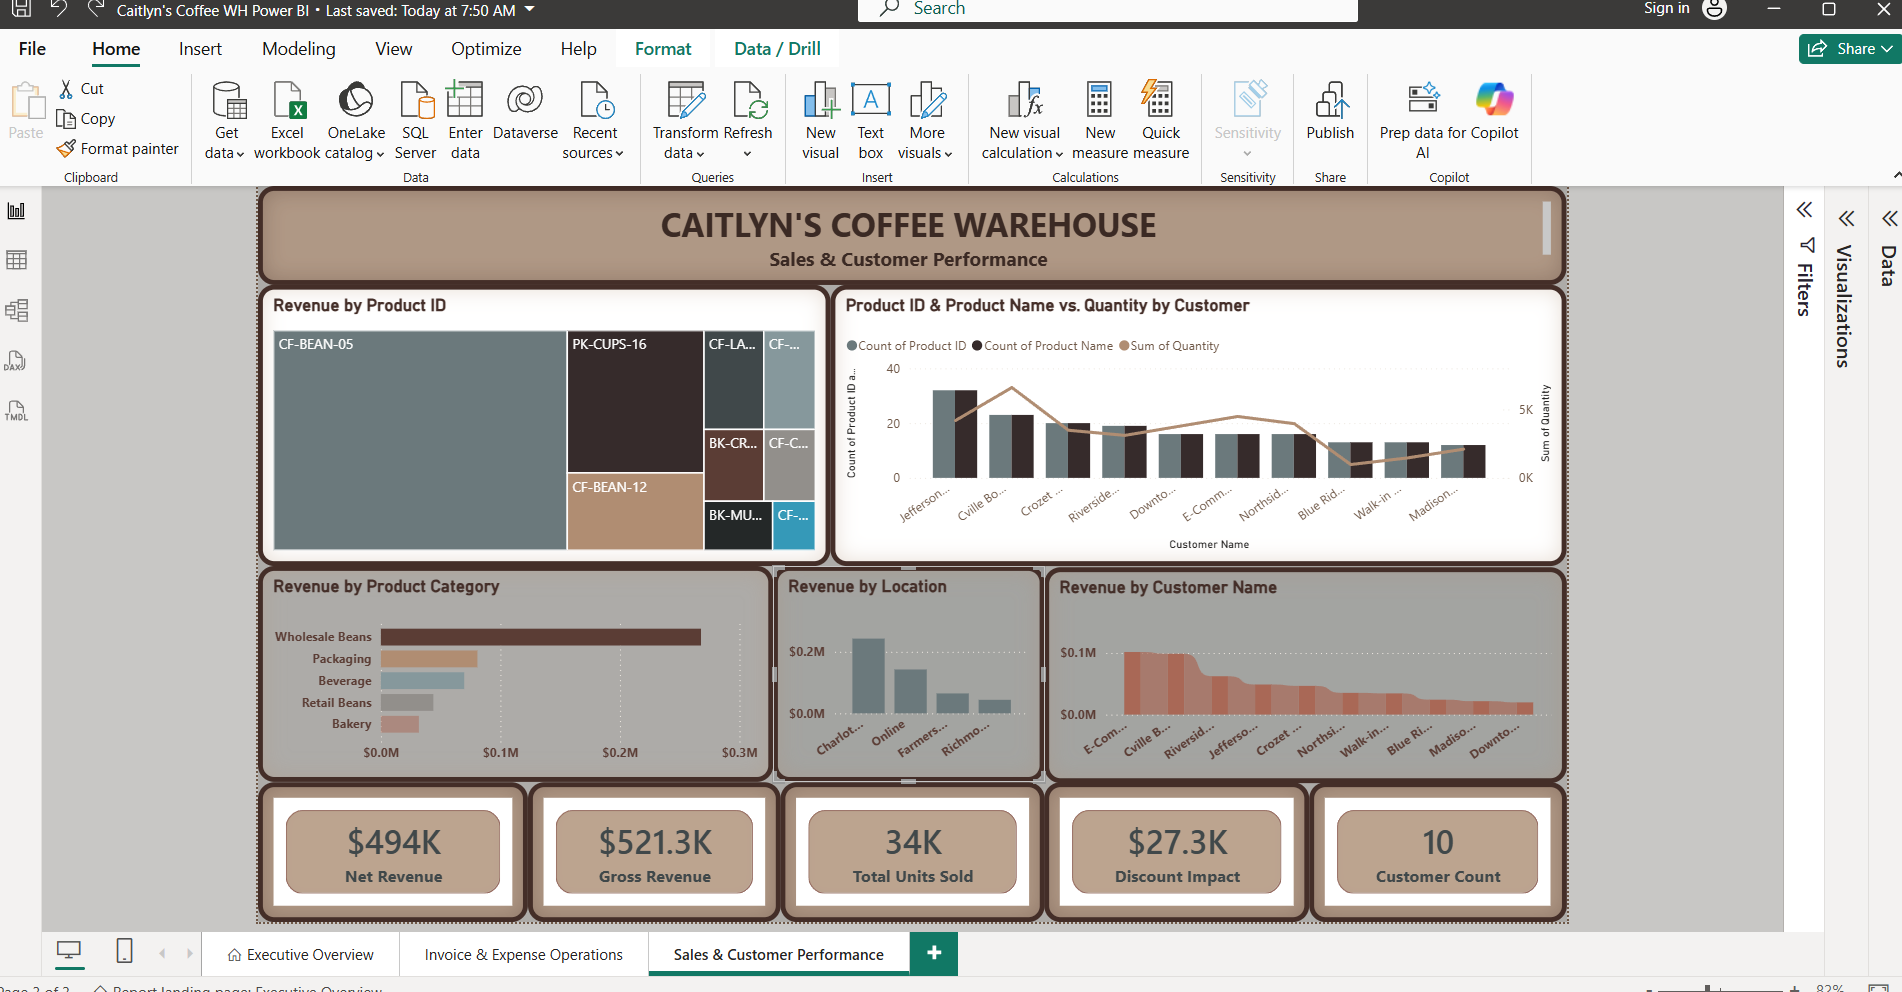

The dashboard page shown, as its layout file describes it:
{"tool":"powerbi","page":{"name":"Sales & Customer Performance","canvas":[1280,720],"ordinal":2},"visuals":[{"type":"textbox","box":[0,0,1280.3,96.6],"z":0},{"type":"cardVisual","fields":{"Data":["Measures (2).Net Revenue"]},"box":[0,583.3,264.1,137],"z":1000},{"type":"cardVisual","fields":{"Data":["Measures (2).Gross Revenue"]},"box":[264.1,583.3,247,137],"z":2000},{"type":"cardVisual","fields":{"Data":["Measures (2).Discount Impact"]},"box":[769.2,583.3,259.2,137],"z":3000},{"type":"cardVisual","fields":{"Data":["Measures (2).Customer Count"]},"box":[1028.4,583.3,251.9,137],"z":4000},{"type":"cardVisual","fields":{"Data":["Measures (2).Total Units Sold"]},"box":[511.1,583.3,258,137],"z":5000},{"type":"ribbonChart","title":"Revenue by Customer Name","fields":{"Category":["Revenue_Table PQ.Customer Name"],"Y":["Measures (2).Net Revenue"]},"box":[769.2,373,511.1,211.6],"z":6000},{"type":"treemap","title":"Revenue by Product ID","fields":{"Group":["Revenue_Table PQ.Product ID"],"Values":["Measures (2).Net Revenue"]},"box":[0,96.6,560.1,275.1],"z":7000},{"type":"barChart","title":"Revenue by Product Category","fields":{"Category":["Revenue_Table PQ.Product Category"],"Y":["Measures (2).Net Revenue"]},"box":[0,371.7,503.8,211.6],"z":8000},{"type":"columnChart","title":"Revenue by Location","fields":{"Category":["Revenue_Table PQ.Location"],"Y":["Measures (2).Net Revenue"]},"box":[503.8,371.7,265.4,211.6],"z":9000},{"type":"lineClusteredColumnComboChart","title":"Product ID & Product Name vs. Quantity by Customer","fields":{"Category":["Revenue_Table PQ.Customer Name"],"Y":["CountNonNull(Revenue_Table PQ.Product ID)","CountNonNull(Revenue_Table PQ.Product Name)"],"Y2":["Sum(Revenue_Table PQ.Quantity)"]},"box":[560.1,96.6,720.2,275.1],"z":11000}]}

Visuals, with their boxes on the page's 1280x720 design canvas (x1, y1, x2, y2). These are canvas units, not pixel positions in the 1902x992 screenshot, which may show the page scaled, cropped or inside an application window:
textbox: locate(0, 0, 1280, 97)
cardVisual - Measures (2).Net Revenue: locate(0, 583, 264, 720)
cardVisual - Measures (2).Gross Revenue: locate(264, 583, 511, 720)
cardVisual - Measures (2).Discount Impact: locate(769, 583, 1028, 720)
cardVisual - Measures (2).Customer Count: locate(1028, 583, 1280, 720)
cardVisual - Measures (2).Total Units Sold: locate(511, 583, 769, 720)
"Revenue by Customer Name" ribbonChart: locate(769, 373, 1280, 585)
"Revenue by Product ID" treemap: locate(0, 97, 560, 372)
"Revenue by Product Category" barChart: locate(0, 372, 504, 583)
"Revenue by Location" columnChart: locate(504, 372, 769, 583)
"Product ID & Product Name vs. Quantity by Customer" lineClusteredColumnComboChart: locate(560, 97, 1280, 372)
